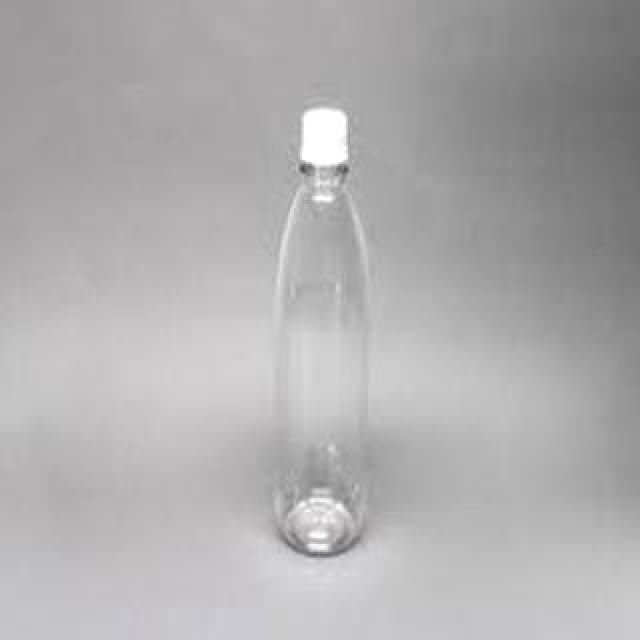Pet_Bottle: (265, 105, 383, 563)
